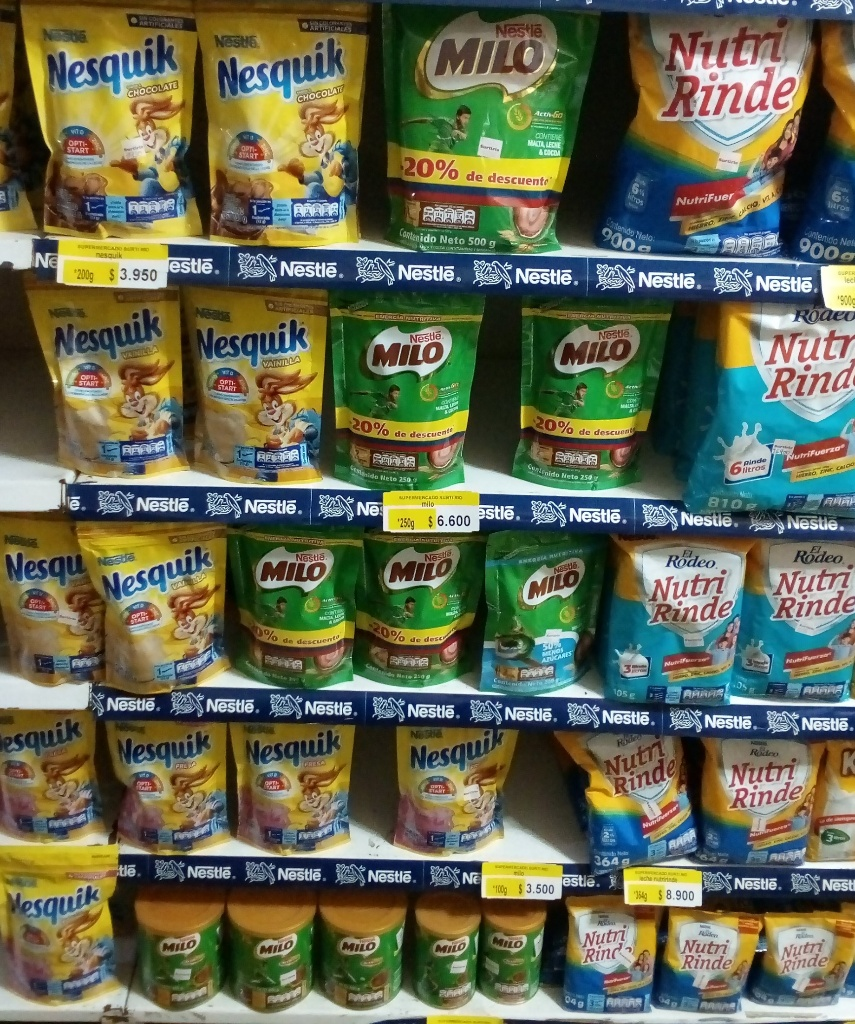COL0170203DYP25000: (229, 530, 358, 693)
COL0170203DYP50000: (379, 4, 596, 249)
COL0170203LAT20000: (416, 898, 486, 1008)
COL0170203LAT40000: (134, 881, 224, 1010)
COL0170205DYP20000: (482, 523, 616, 699)
COL0170303DYP20000: (22, 4, 206, 251)
COL0170305DYP20000: (106, 710, 237, 856)
COL0170306DYP20000: (24, 283, 188, 483)
